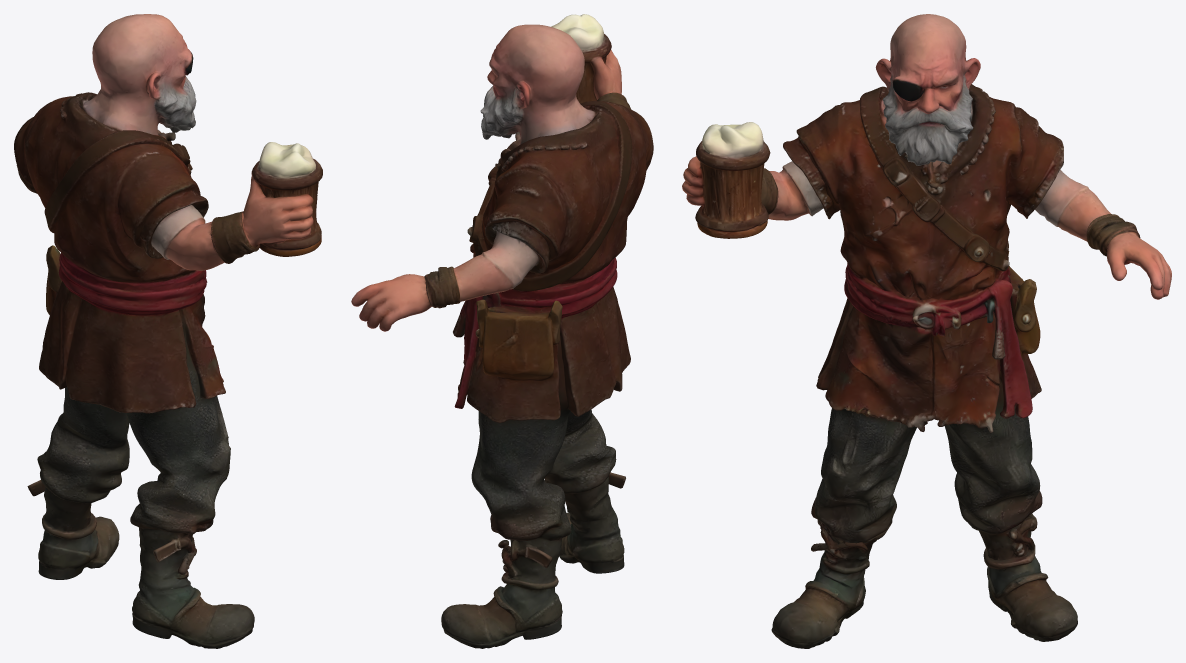
3 renders of one model, left to right at view 1: azimuth 30°, elevation 25°; view 2: azimuth 150°, elevation 25°; view 3: azimuth 270°, elevation 25°, orthographic. The views are drawn at different scales.
Parts seen in each view (by area): view 1: tripo_node_74c9ef88-a581-4e25-86de-58427b10be95; view 2: tripo_node_74c9ef88-a581-4e25-86de-58427b10be95; view 3: tripo_node_74c9ef88-a581-4e25-86de-58427b10be95.
Part boxes in pixels (x1=…): tripo_node_74c9ef88-a581-4e25-86de-58427b10be95: x1=14, y1=14, x2=322, y2=648; tripo_node_74c9ef88-a581-4e25-86de-58427b10be95: x1=351, y1=14, x2=653, y2=648; tripo_node_74c9ef88-a581-4e25-86de-58427b10be95: x1=682, y1=14, x2=1171, y2=648.
Size of the model in its own units: 0.2983 by 1 by 0.7286.
1 material, 1 textured.
